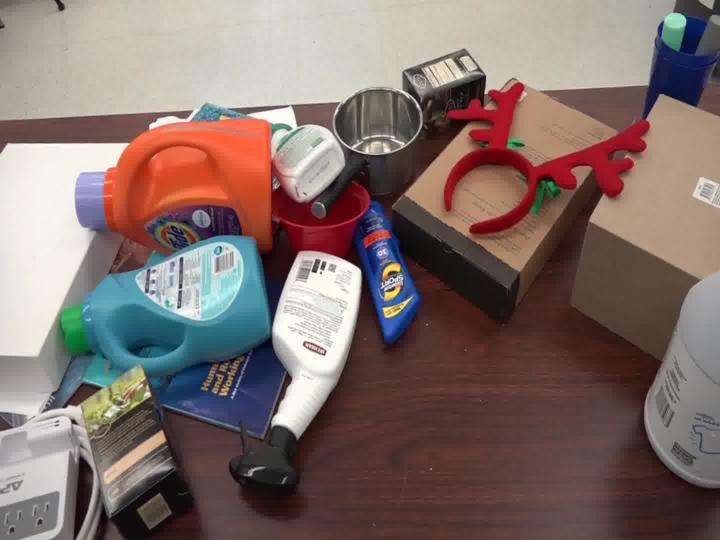downy: (43, 218, 271, 371)
